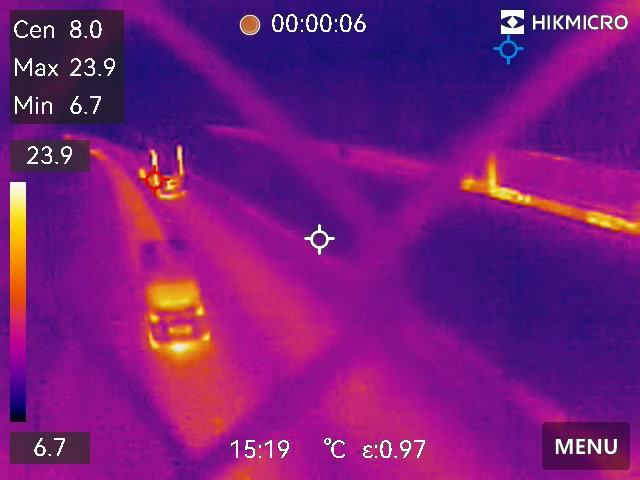vehicle: (130, 241, 222, 347)
